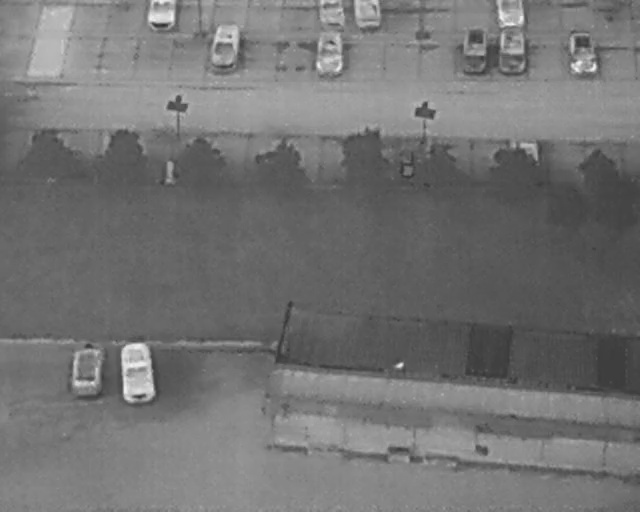Car: (117, 340, 157, 405), (205, 18, 246, 79), (68, 345, 104, 398), (497, 26, 529, 76), (567, 26, 599, 76), (312, 31, 345, 77), (460, 26, 488, 76), (145, 0, 177, 34), (496, 0, 526, 28), (317, 0, 347, 27), (352, 0, 382, 27)
